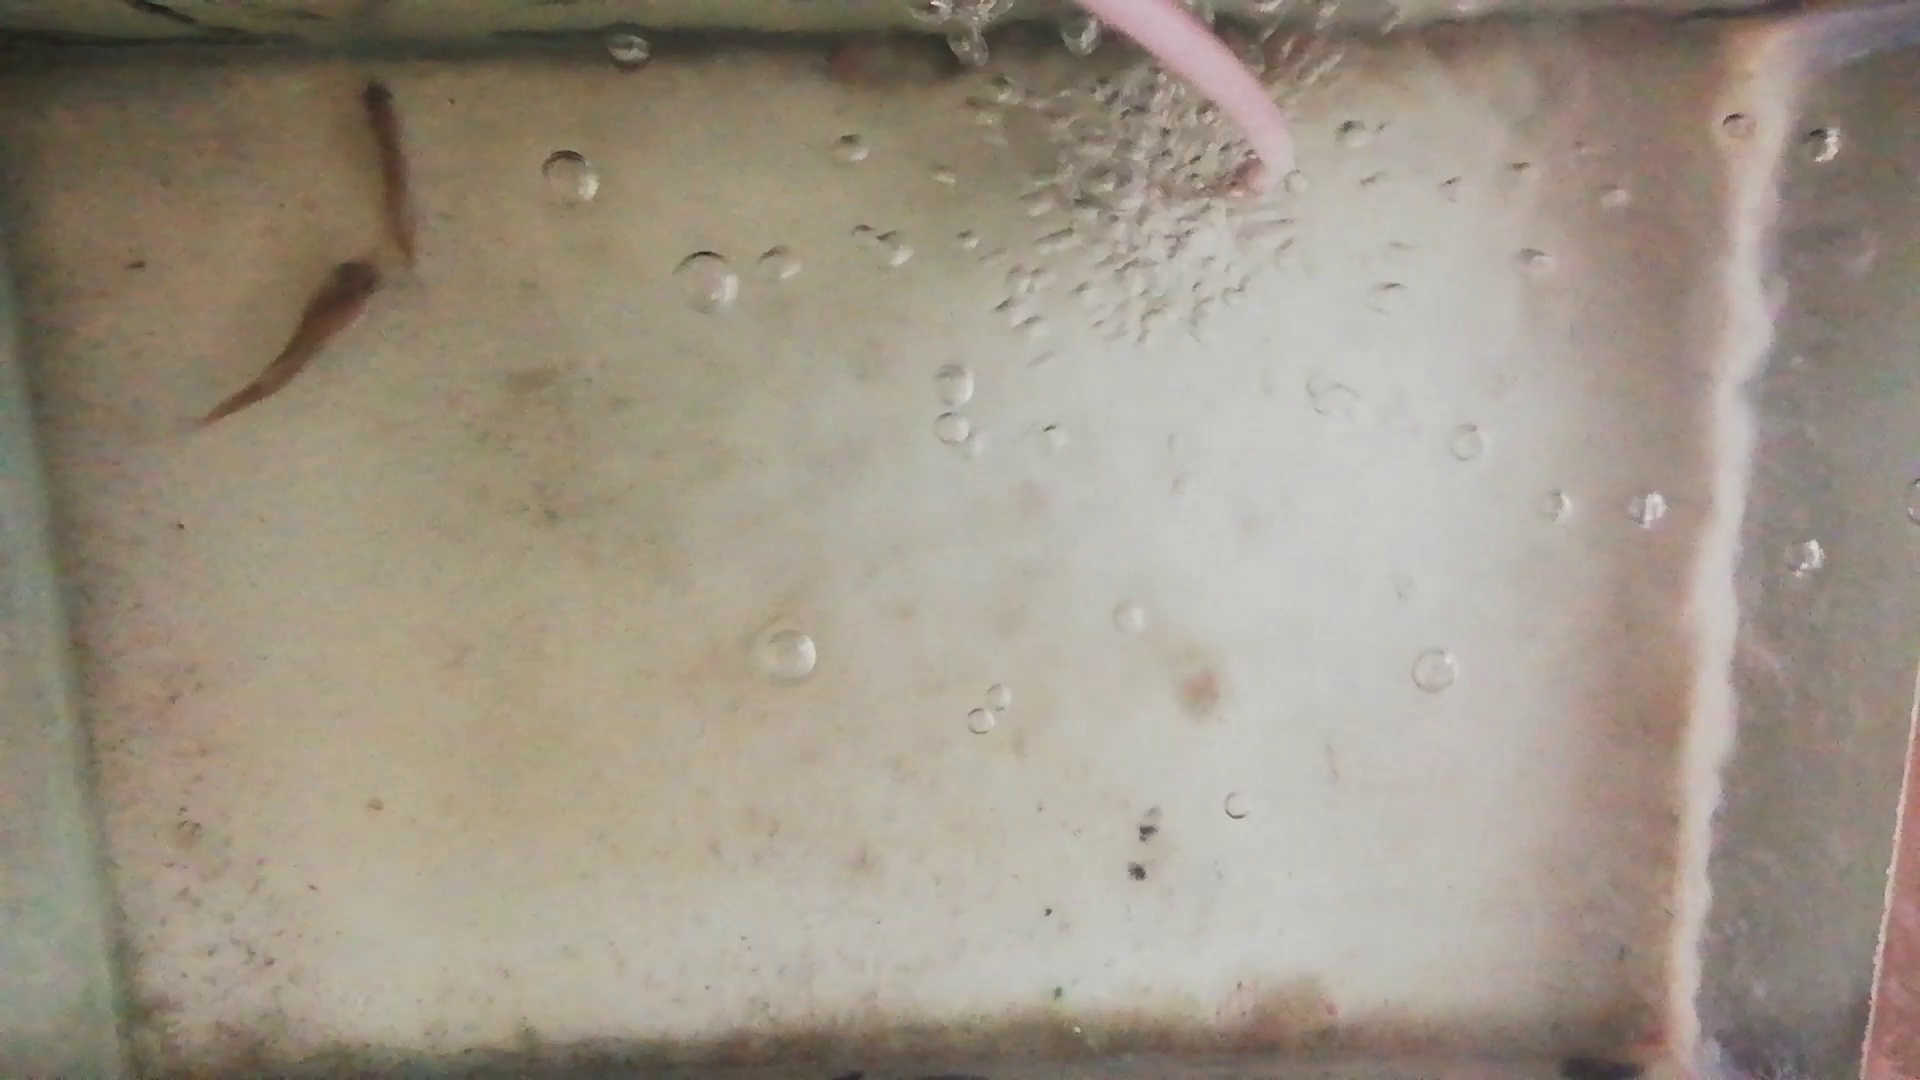fish: (203, 260, 384, 426), (363, 74, 415, 258)
